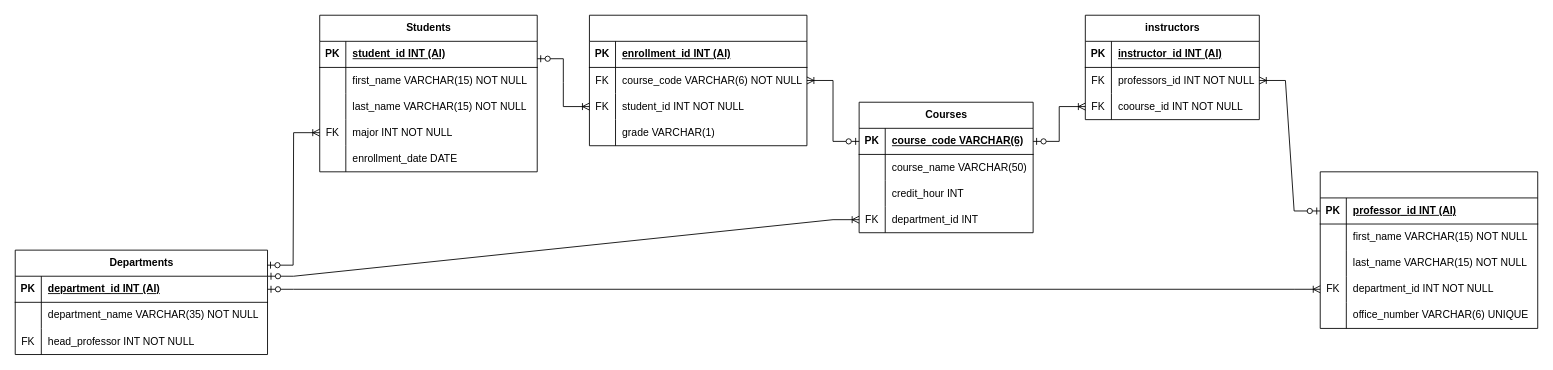
The diagram is 1553 pixels wide and 370 high, and some of its shapes have lost their labels. The box of each missing label's shape, as (x1, y1, x2, y2) in pixels:
Enrollments: (589, 14, 807, 146)
Professors: (1319, 171, 1538, 328)
